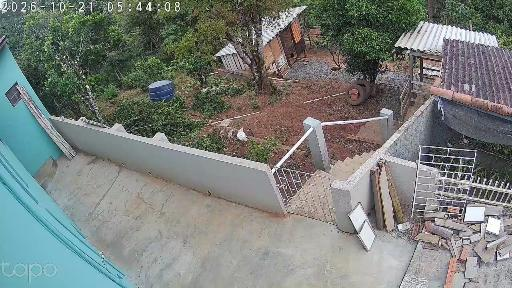galinha: (109, 101, 116, 105)
galo: (236, 127, 250, 142)
